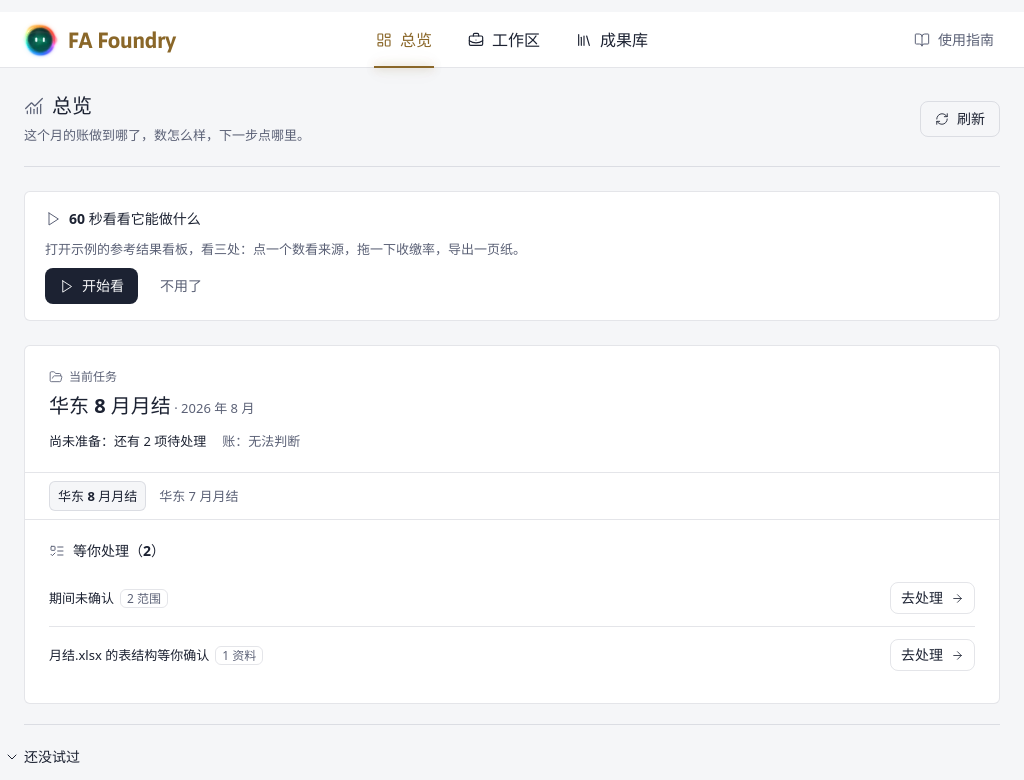
Scenario: 总览 in the app › brings the offer back, saying why, when 不用了 could not be written down
Click the button "不用了": (181, 286) [146,268,216,304]
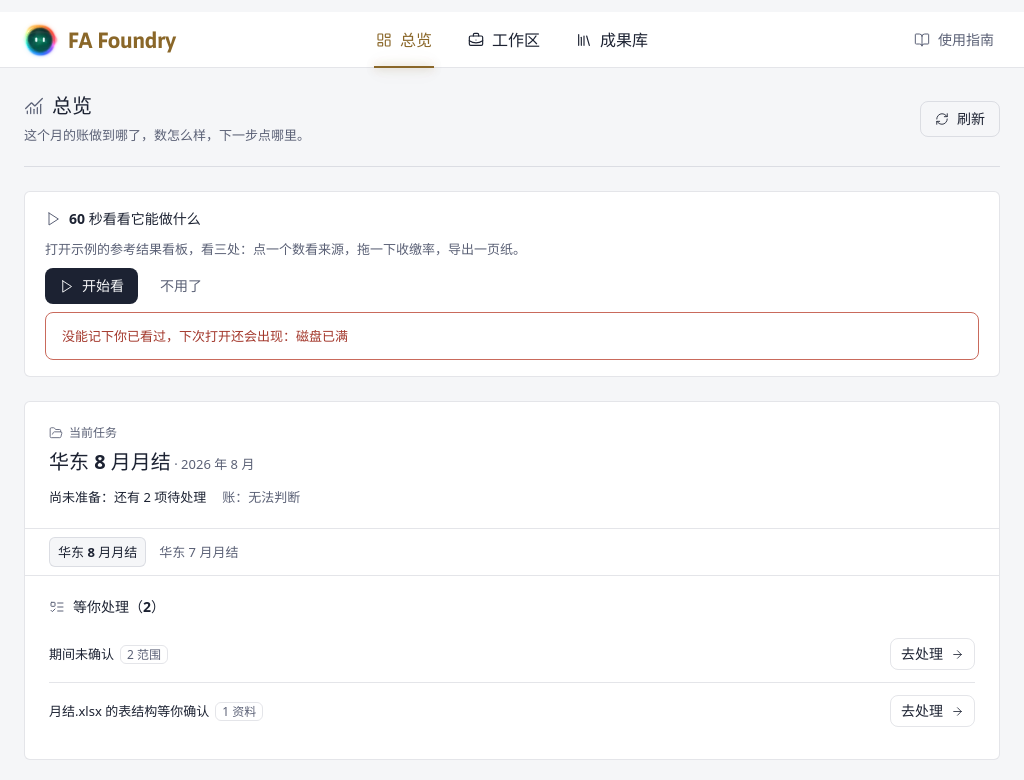
expect the heading "60 秒看看它能做什么" is shown: met, box [45,209,201,228]
expect the message reads "没能记下你已看过，下次打开还会出现：磁盘已满": met, box [62,327,348,345]
